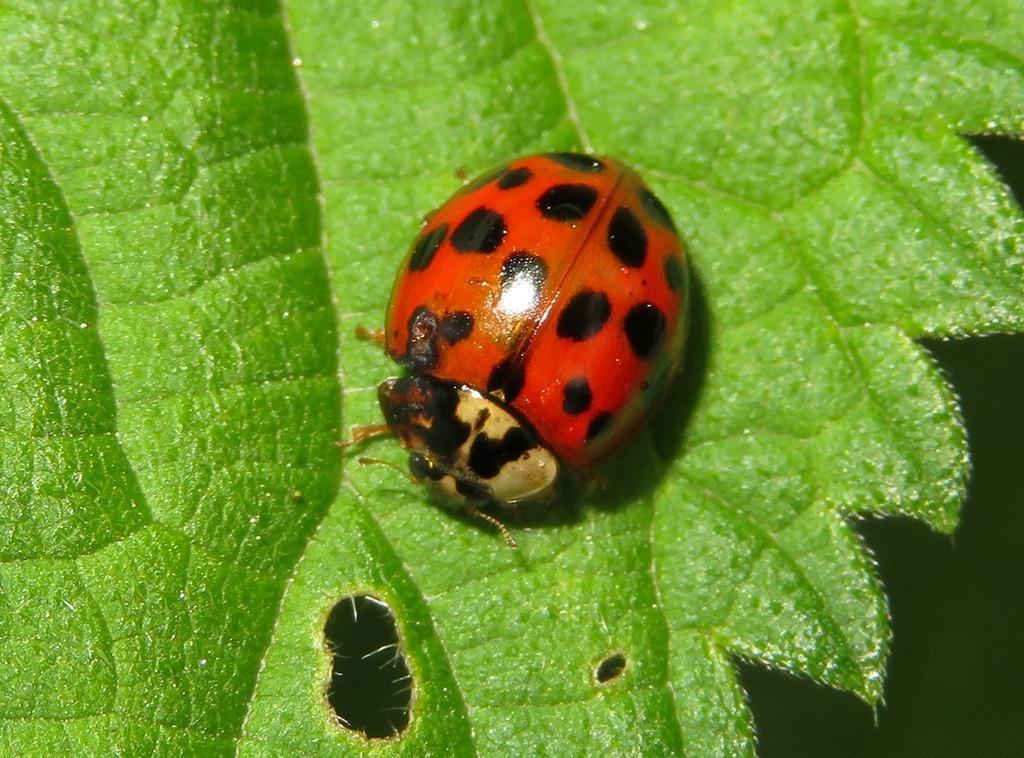ladybug: (335, 149, 699, 553)
